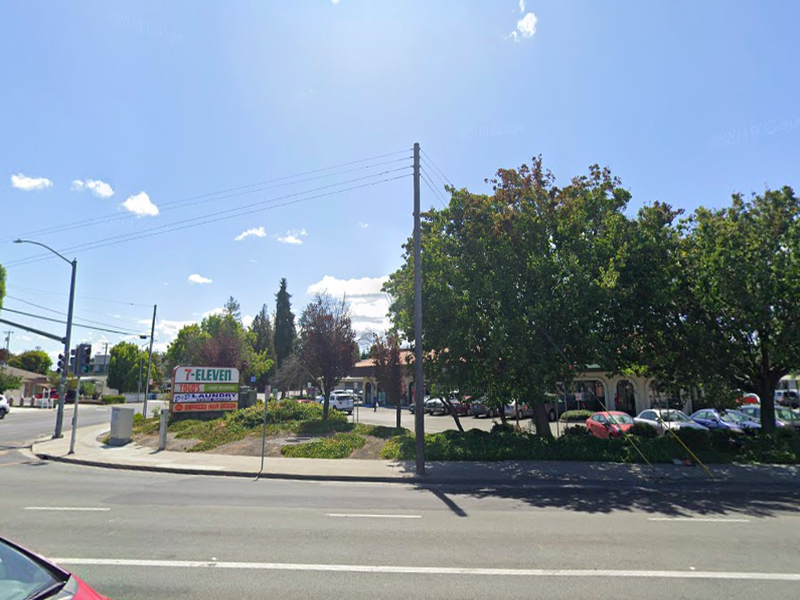tree: (379, 153, 659, 439), (644, 180, 800, 431)
utility_pole: (401, 133, 433, 194)
